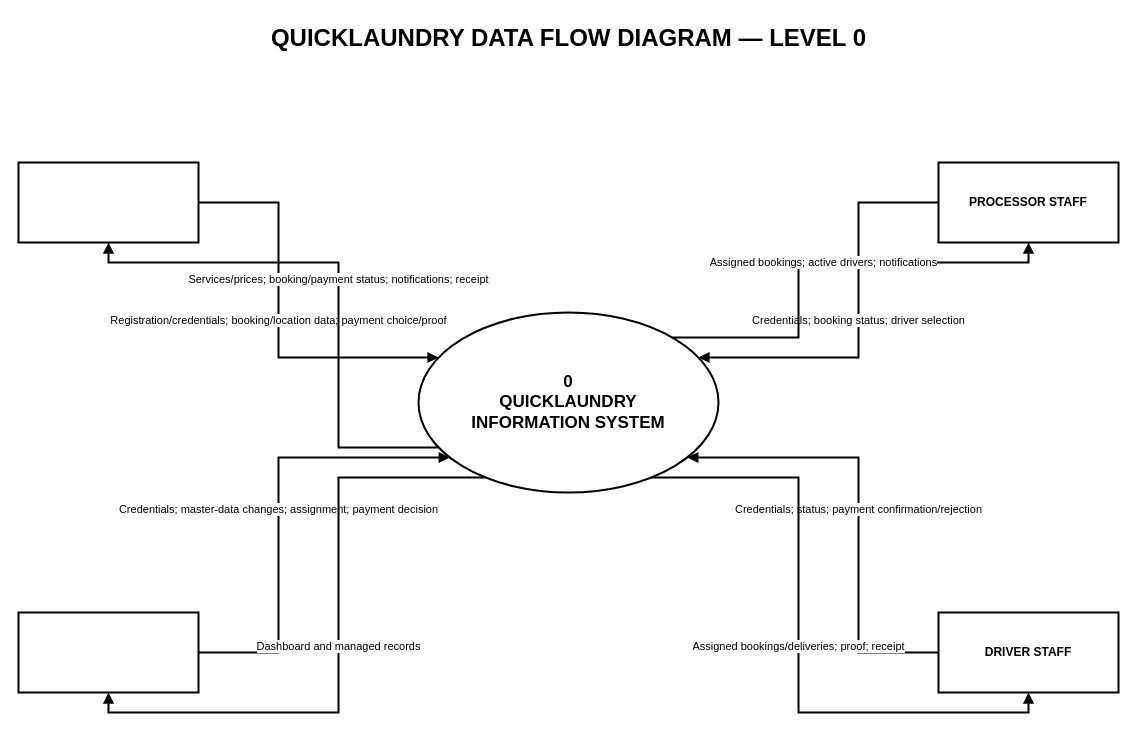
This 1136x738 diagram has some shape labels left out. The shapes that lost their labels are listed below. From the top down, each one's centre as x and y in pixels, then its label:
At [108,202]: "CUSTOMER".
At [108,652]: "ADMIN".
